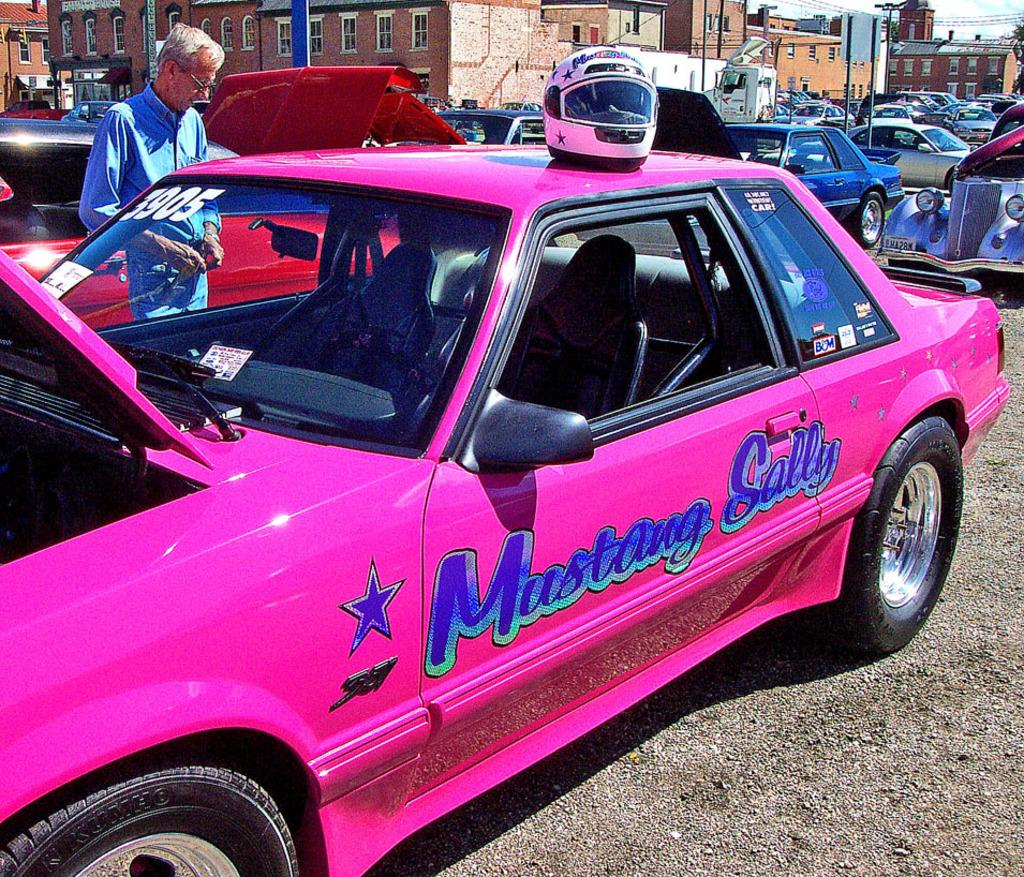helmet: (542, 46, 660, 173)
nohelmet: (154, 21, 227, 114)
